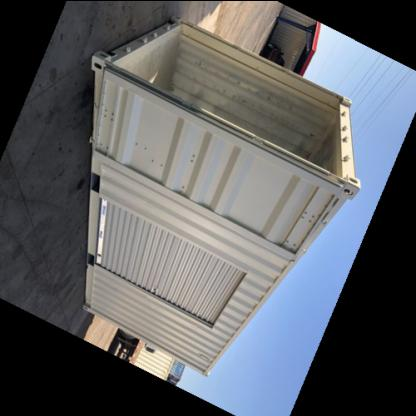Damage: (197, 53, 334, 131)
